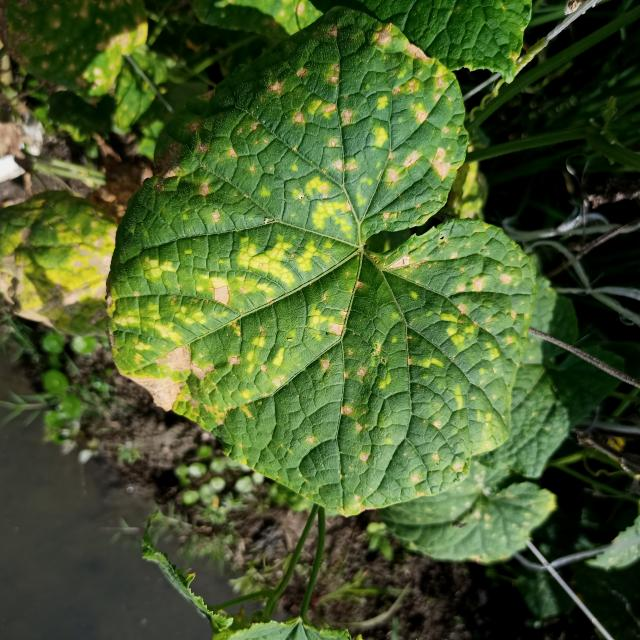disease_cucumber: (125, 15, 524, 480)
